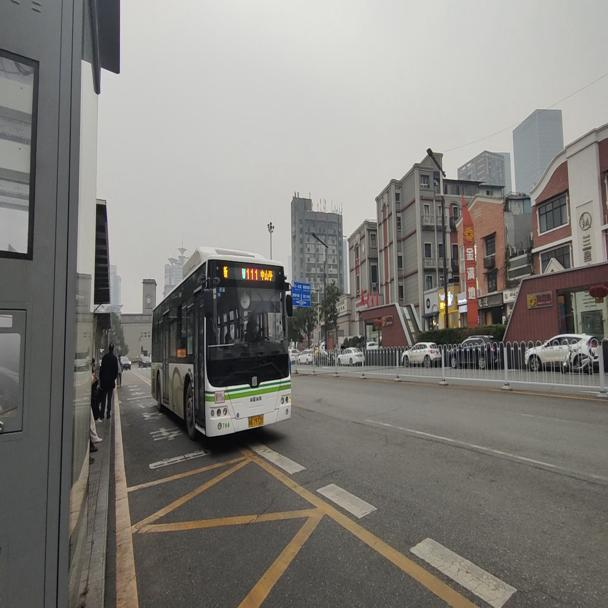bus: (147, 243, 294, 441)
screen: (244, 262, 259, 283)
